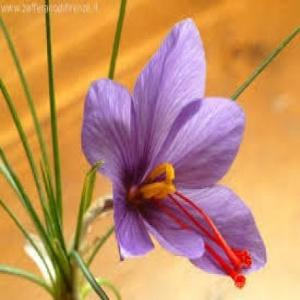Saffron: (81, 18, 268, 272)
